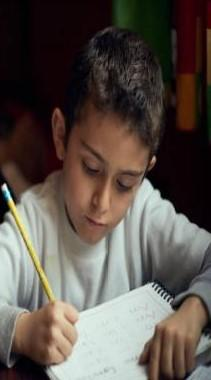good: (0, 20, 211, 380)
